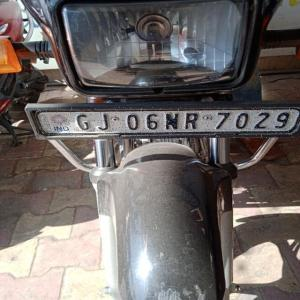Plate: (37, 108, 300, 138)
